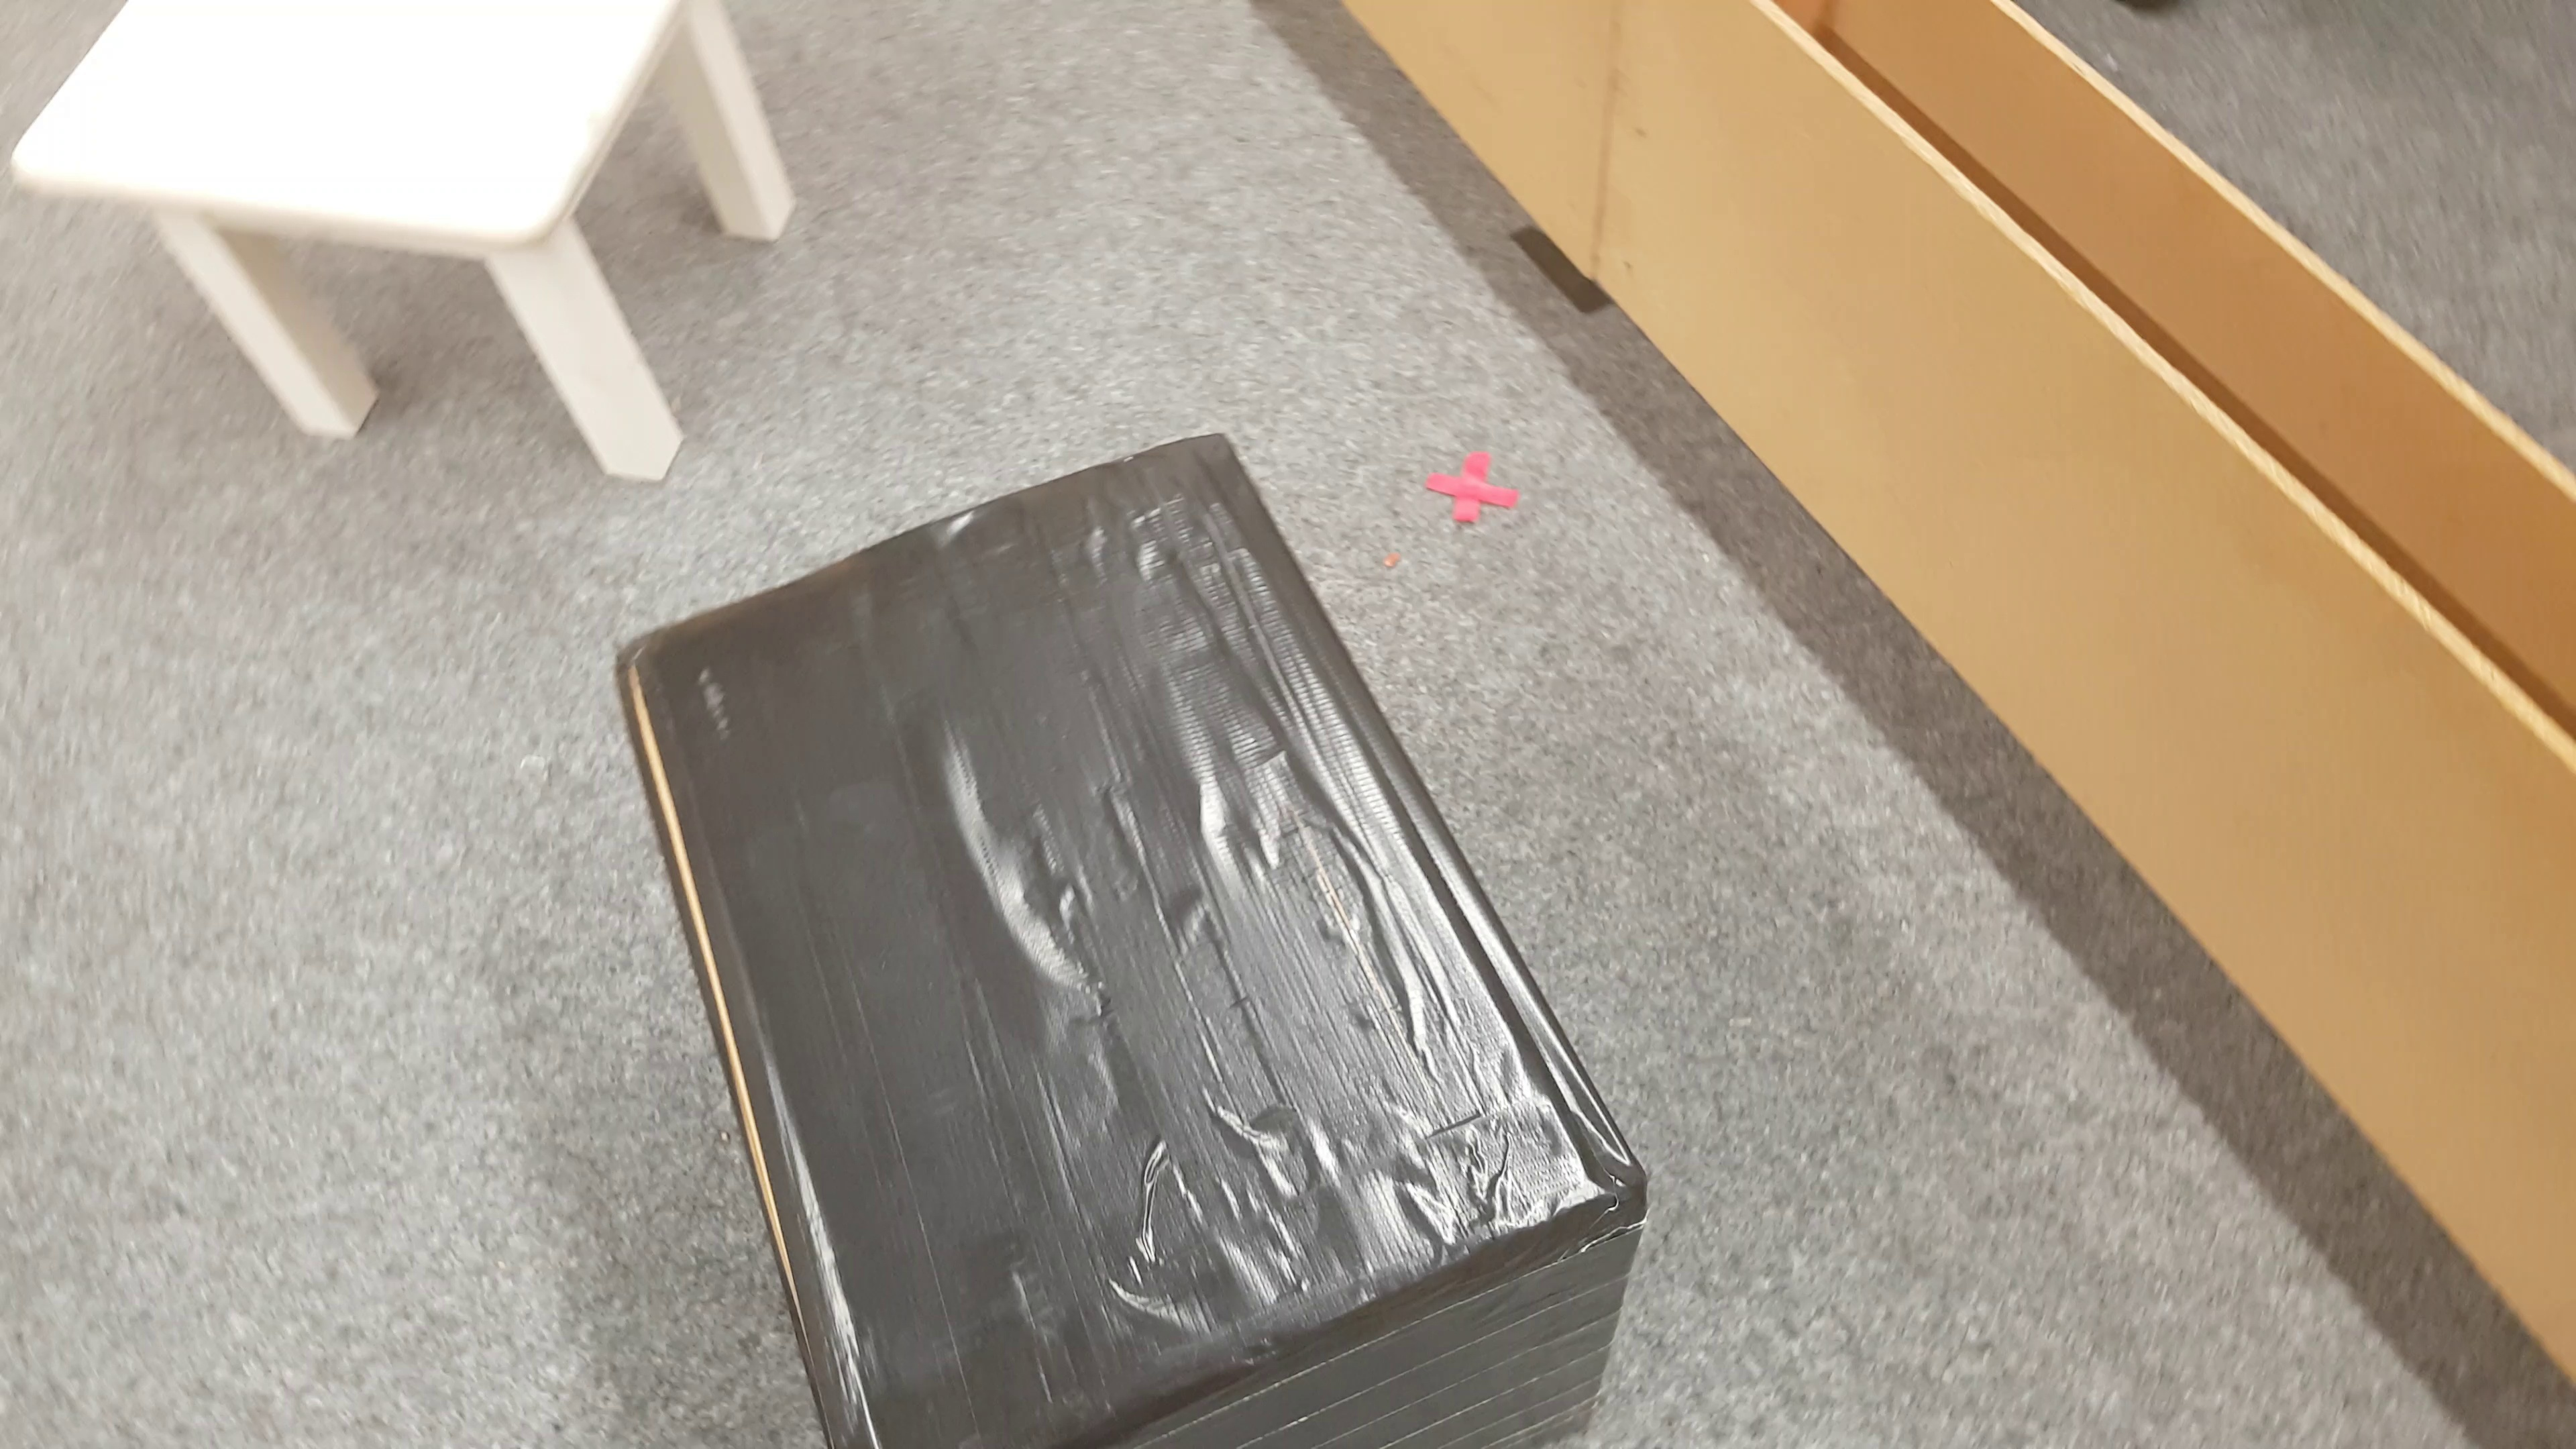push: (609, 432, 1647, 1449)
